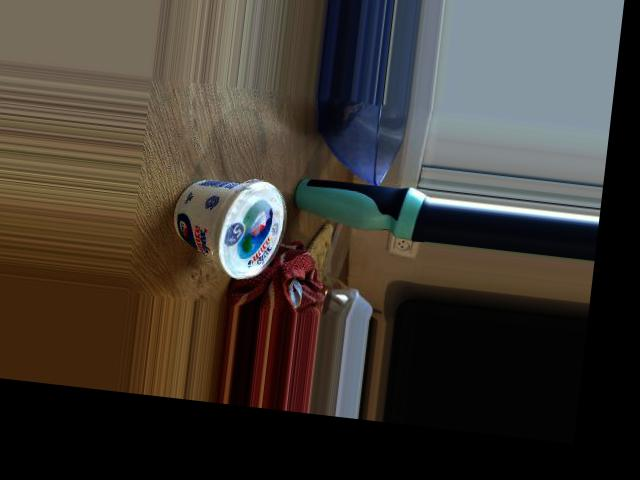cotage: (164, 165, 298, 268)
